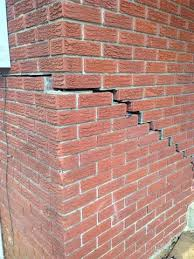stairstep_crack: (58, 83, 193, 179), (2, 71, 59, 98)
